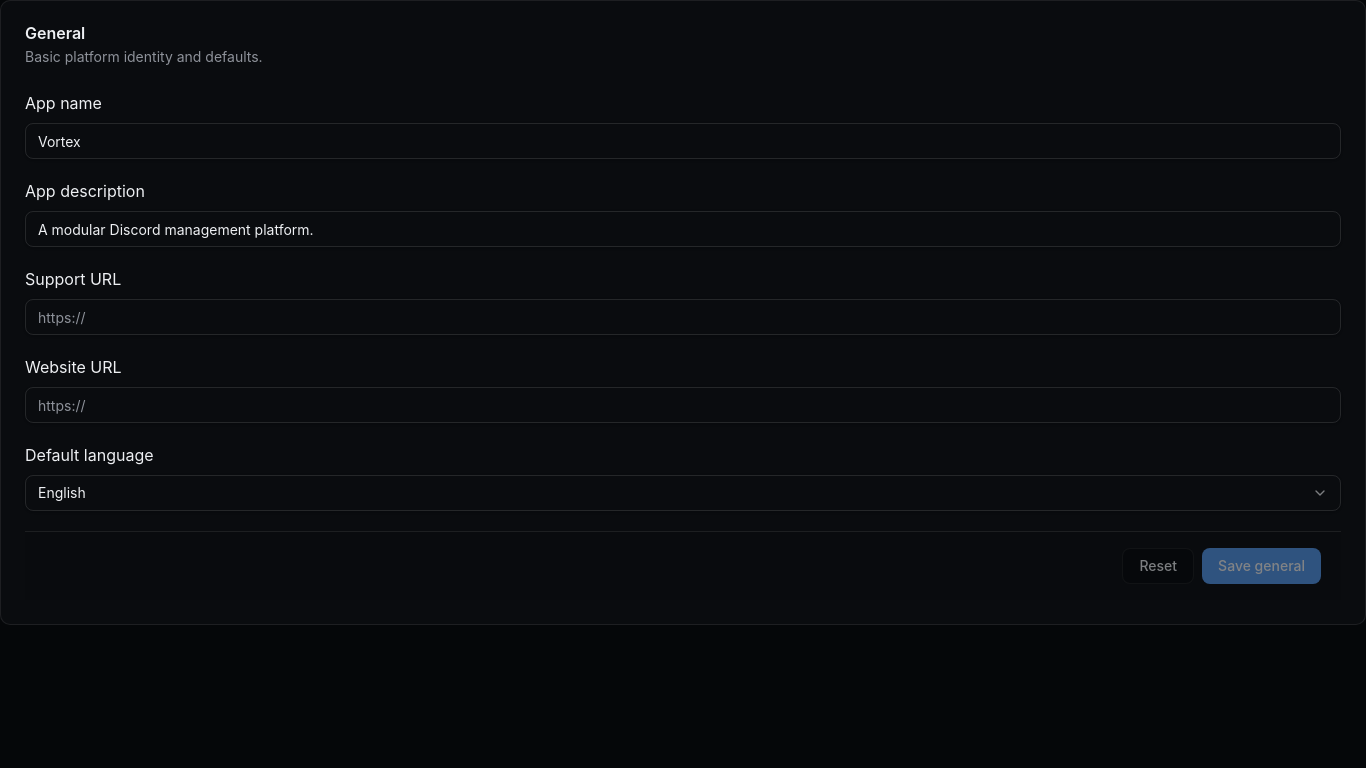
Scenario: GeneralSection › shows validation error when app name is empty
The width and height of the screenshot is (1366, 768).
Clear the field labelled "App name" at (683, 141), box left=25, top=123, right=1341, bottom=159
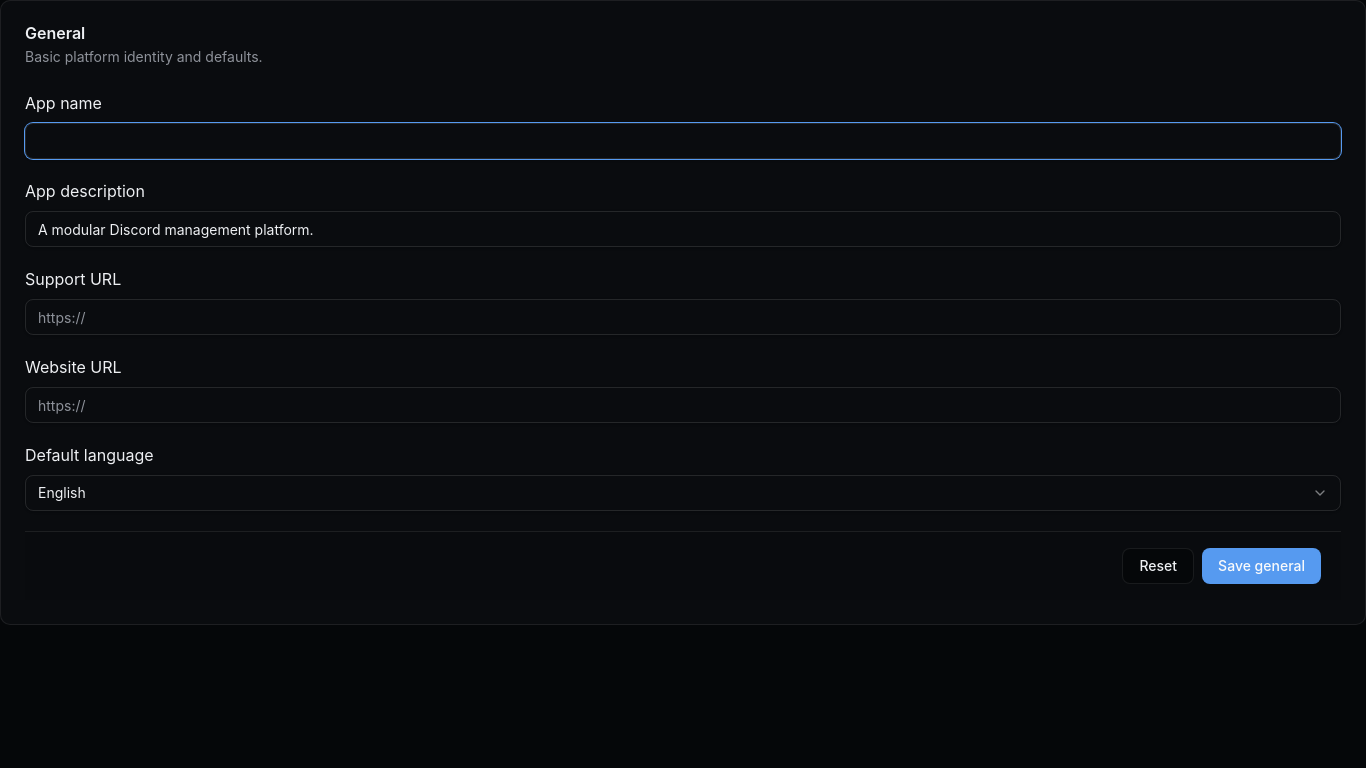
Click the button "Save general".
click(1262, 566)  # box left=1202, top=548, right=1321, bottom=584
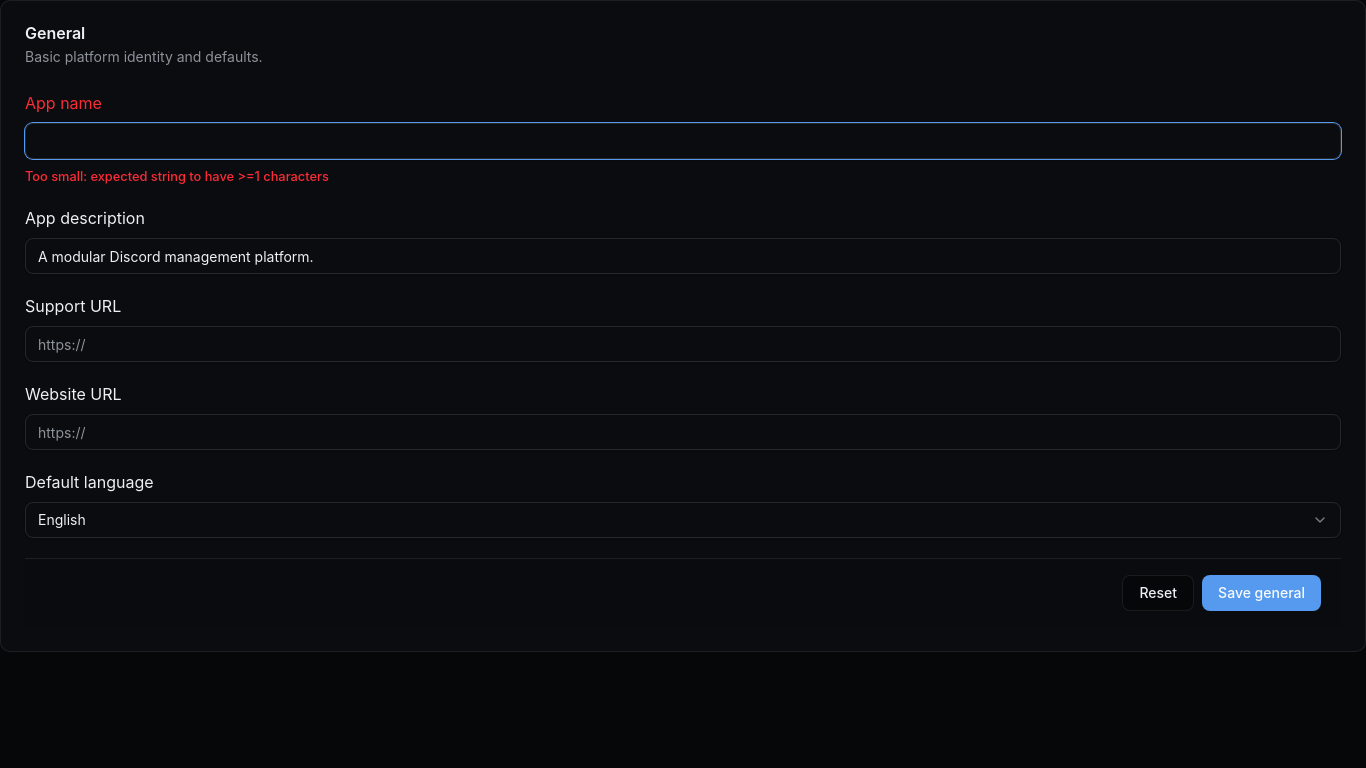
Expected: the text "Too small: expected string to have >=1 characters" is shown, left=25, top=169, right=329, bottom=184
